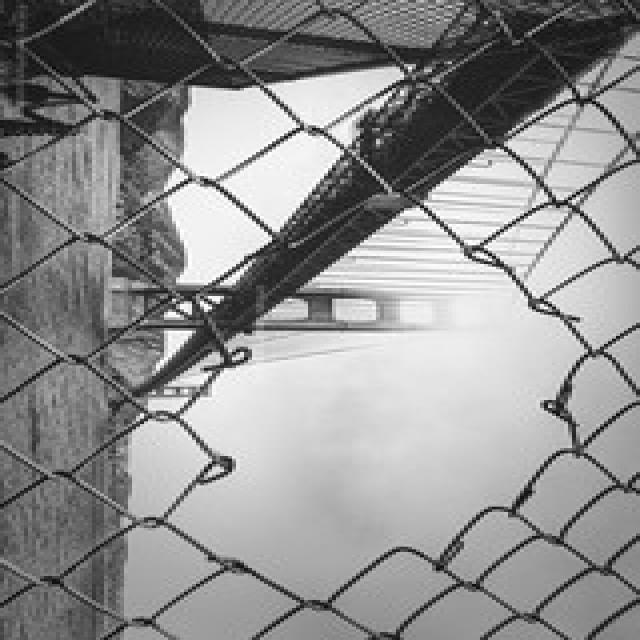fence line: (162, 189, 594, 608)
